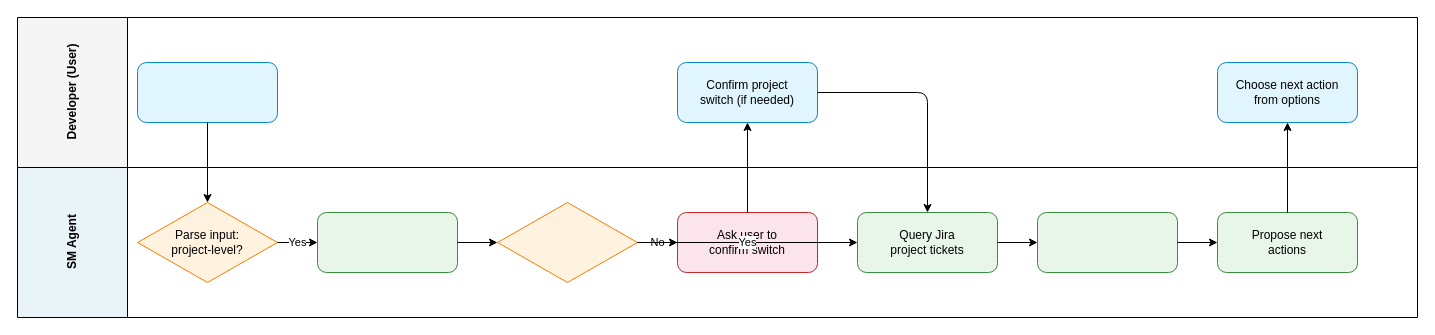
This 1435x335 diagram has some shape labels left out. The box of each missing label's shape, as (x1, y1, x2, y2) in pixels:
Display project overview table: (1036, 212, 1178, 272)
Invoke SM with project key + action: (136, 62, 278, 122)
Project key matches?: (496, 202, 638, 282)
Read jira.conf: (316, 212, 458, 272)
